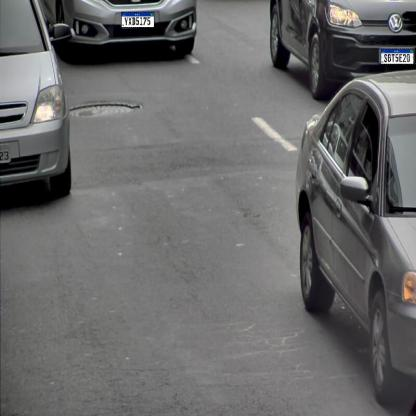PlacaM: (121, 12, 155, 28), (381, 48, 414, 64)
